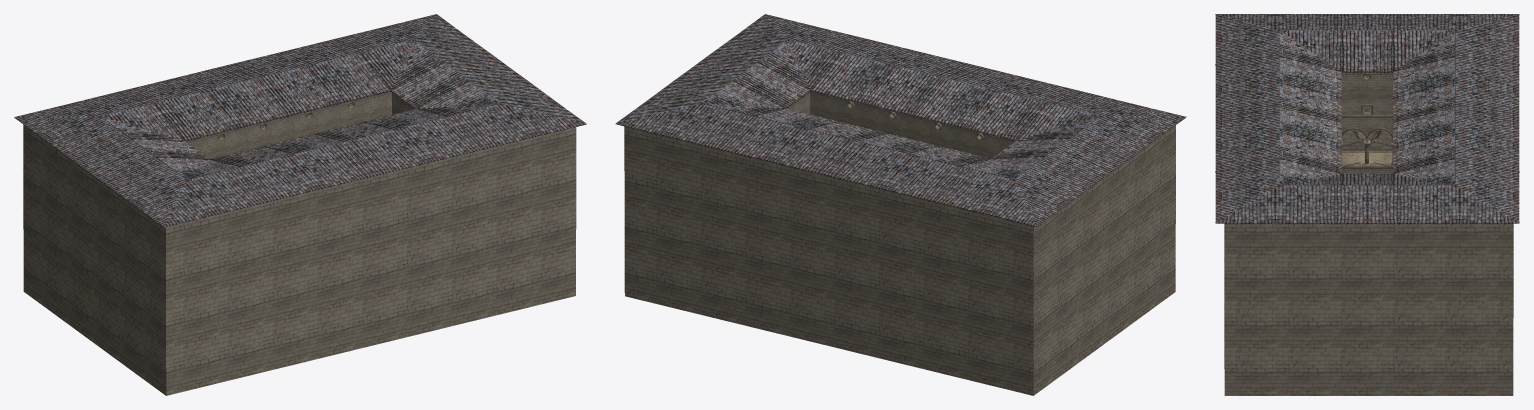
Rendered from Sponza_c.gltf.
3 renders of one model, left to right at view 1: azimuth 30°, elevation 25°; view 2: azimuth 150°, elevation 25°; view 3: azimuth 270°, elevation 25°, orthographic.
Bounding box in the file's own units: 29.77 × 12.45 × 18.31.
Materials: 25 (25 with a texture image).
